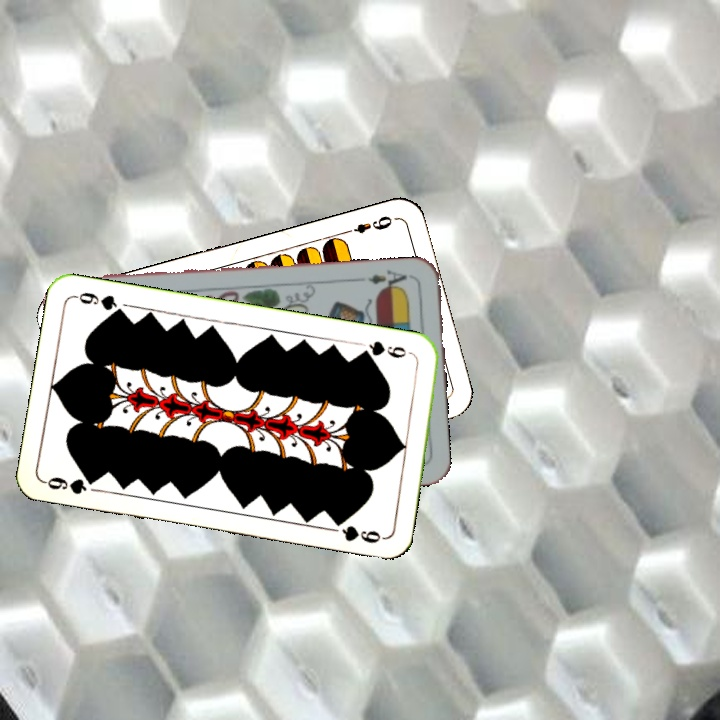E9: (339, 211, 395, 237)
EA: (364, 265, 415, 293)
G9: (40, 472, 101, 497), (356, 336, 416, 361)
